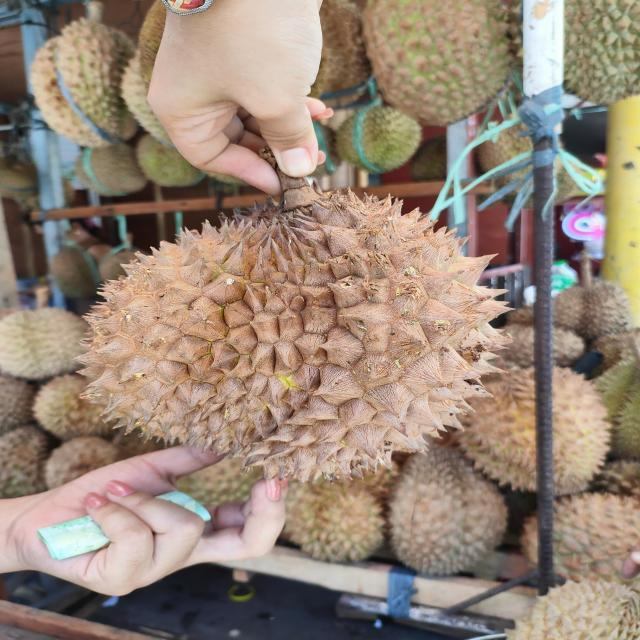mature: (72, 182, 519, 490)
